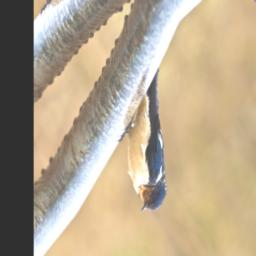Swallow: (102, 67, 205, 225)
